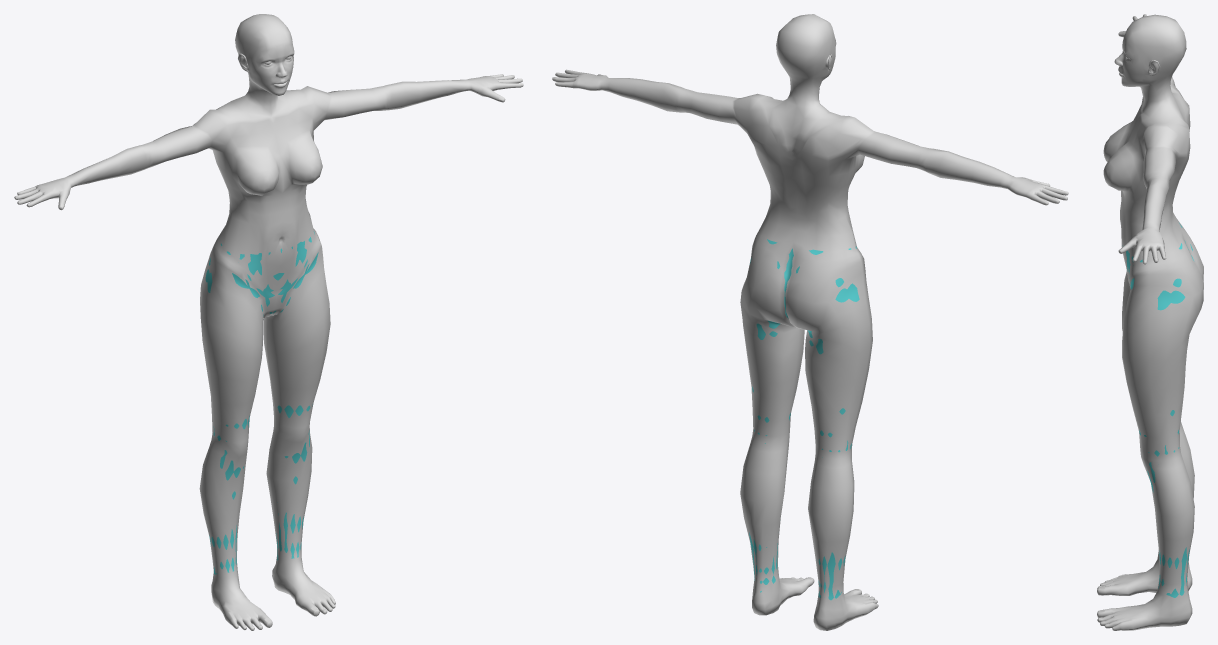
Rendered from pants.glb.
3 views of the same model, side by side, from view 1: azimuth 30°, elevation 25°; view 2: azimuth 150°, elevation 25°; view 3: azimuth 270°, elevation 25° (orthographic).
Parts seen in each view (by area): view 1: BaseMesh_Female, Mesh; view 2: BaseMesh_Female, Mesh; view 3: BaseMesh_Female, Mesh.
Boxes of the visible parts, x1,y1,x2,y2 form: BaseMesh_Female: [14, 14, 523, 630]; Mesh: [205, 231, 318, 574]; BaseMesh_Female: [552, 14, 1068, 630]; Mesh: [749, 239, 859, 600]; BaseMesh_Female: [1097, 14, 1203, 630]; Mesh: [1122, 223, 1194, 597].
Bounding box in the file's own units: 1.63 × 1.8 × 0.2968.
